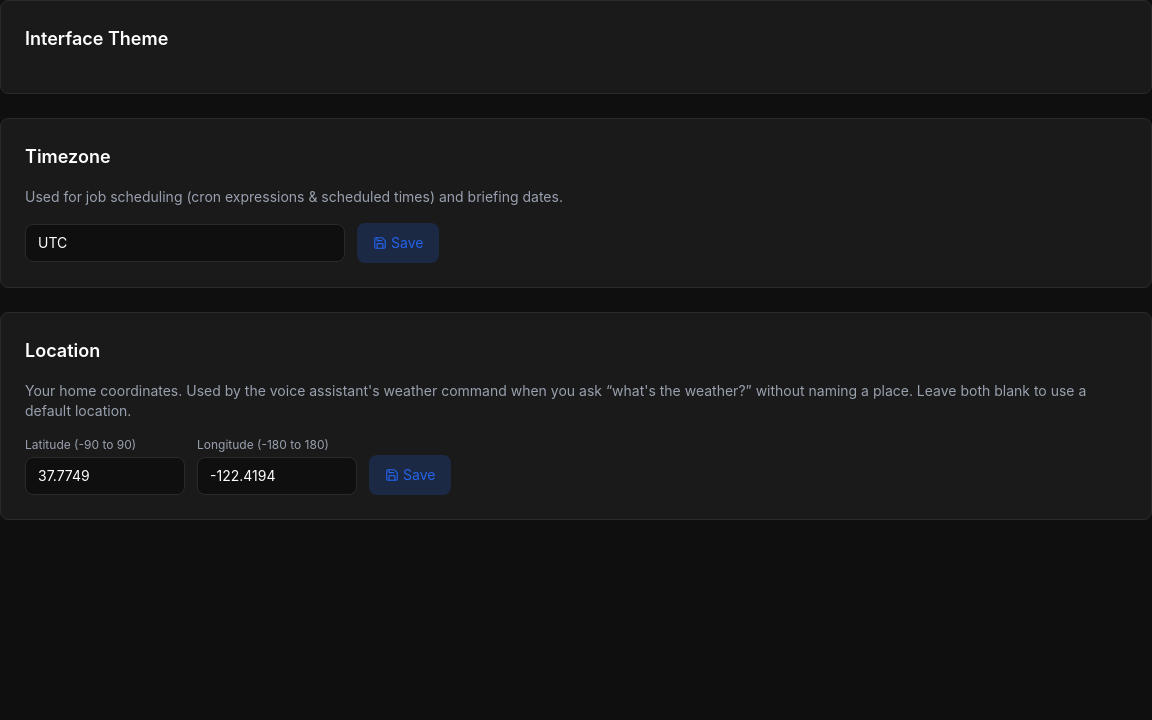
Test: GeneralTab unsaved changes › marks each edited section dirty, arms beforeunload, and clears when values are restored
Type "America/New_York" into the field named "Timezone (IANA)" at (185, 243), box [25,224,345,262]
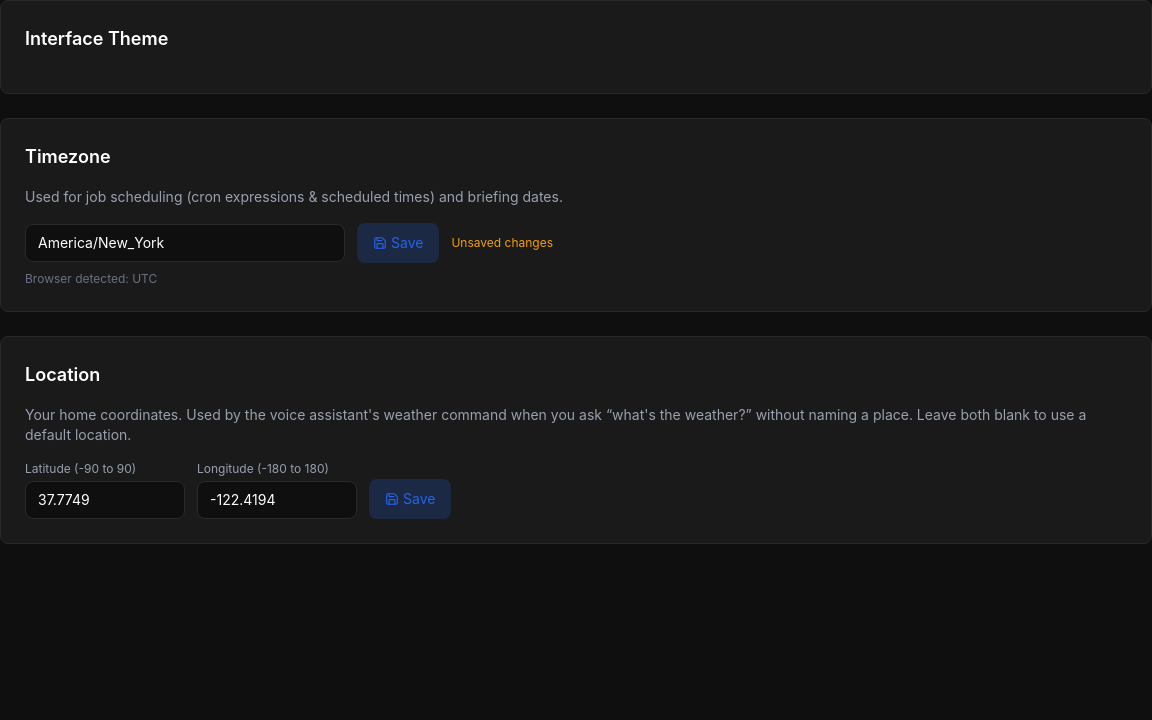
Check: the message named "Timezone has unsaved changes" is shown, box [451,235,553,251]
Type "40.7128" into the field labelled "Latitude (-90 to 90)" at (105, 500), box [25,481,185,519]
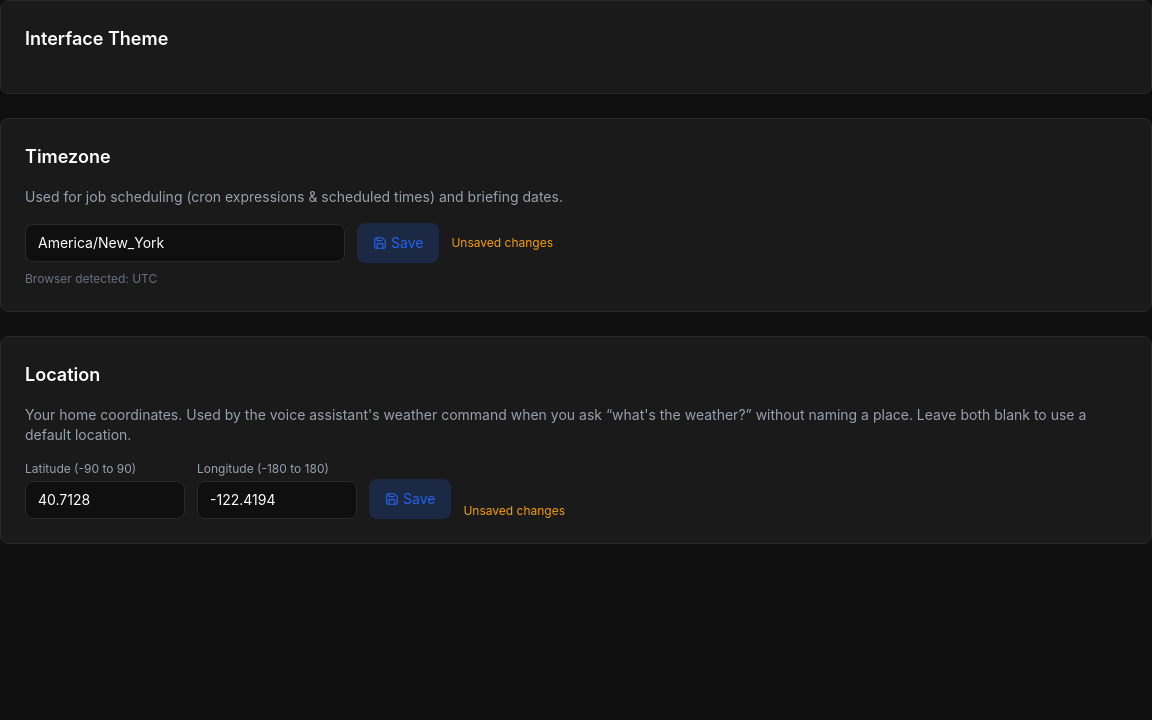
Check: the text "Unsaved changes" below "Longitude (-180 to 180)" is shown, box [463,503,565,518]
Check: the message named "Location has unsaved changes" is shown, box [463,503,565,519]
Replace the text in the field named "Timezone (IANA)" with "UTC" at (185, 243), box [25,224,345,262]
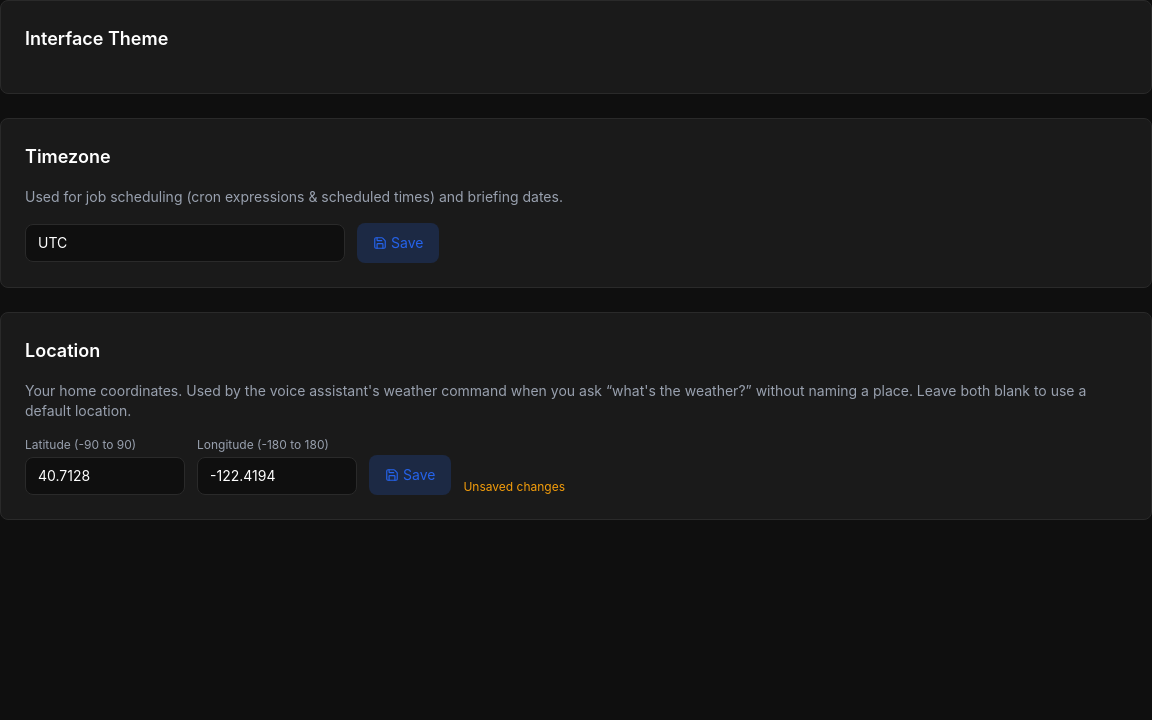
Replace the text in the field labelled "Latitude (-90 to 90)" with "37.7749" at (105, 476), box [25,457,185,495]
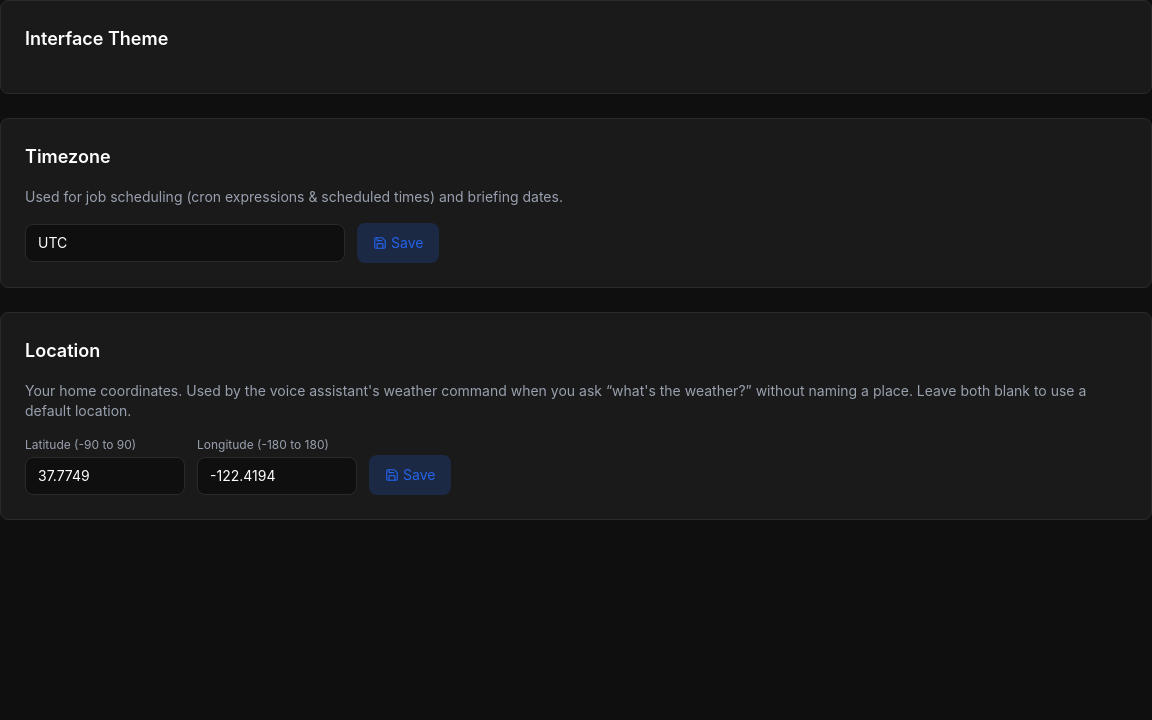
Check: the text "Unsaved changes" is gone
